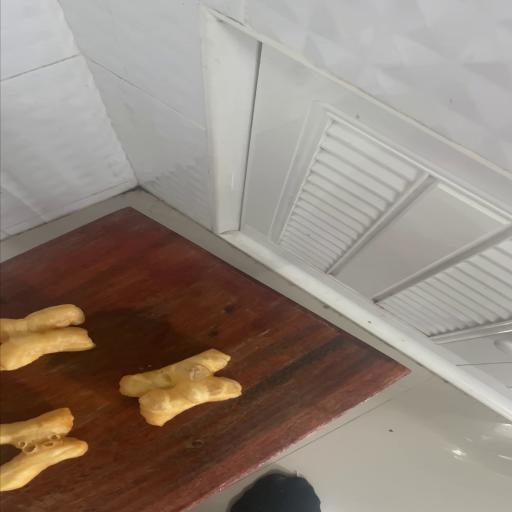street_golden_defect: (119, 349, 240, 426), (0, 408, 73, 457), (0, 448, 64, 491)
